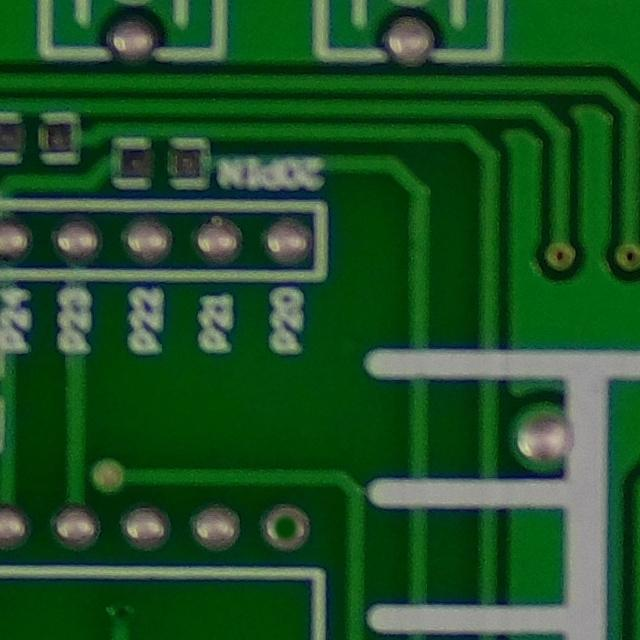missing_hole: (256, 496, 318, 552)
